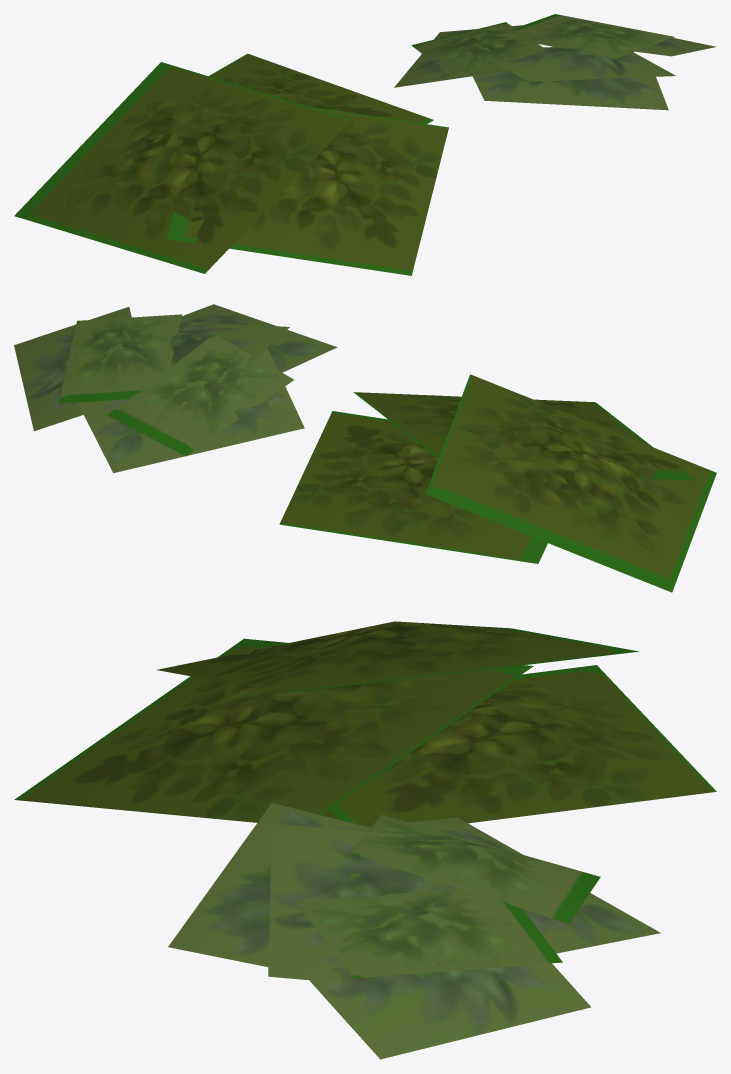
Rendered from FB_1_guanmu01.FBX.
3 renders of one model, top to bottom at view 1: azimuth 30°, elevation 25°; view 2: azimuth 150°, elevation 25°; view 3: azimuth 270°, elevation 25°, orthographic. The views are drawn at different scales.
Parts seen in each view (by area): view 1: FB_1_guanmu01_001, FB_1_guanmu01_002; view 2: FB_1_guanmu01_001, FB_1_guanmu01_002; view 3: FB_1_guanmu01_001, FB_1_guanmu01_002.
Boxes of the visible parts, x1,y1,x2,y2 form: FB_1_guanmu01_001: (14, 53, 448, 275); FB_1_guanmu01_002: (394, 14, 716, 110); FB_1_guanmu01_001: (279, 374, 716, 592); FB_1_guanmu01_002: (14, 304, 337, 472); FB_1_guanmu01_001: (14, 621, 716, 826); FB_1_guanmu01_002: (168, 803, 660, 1059).
Bounding box in the file's own units: 771 × 108 × 466.
